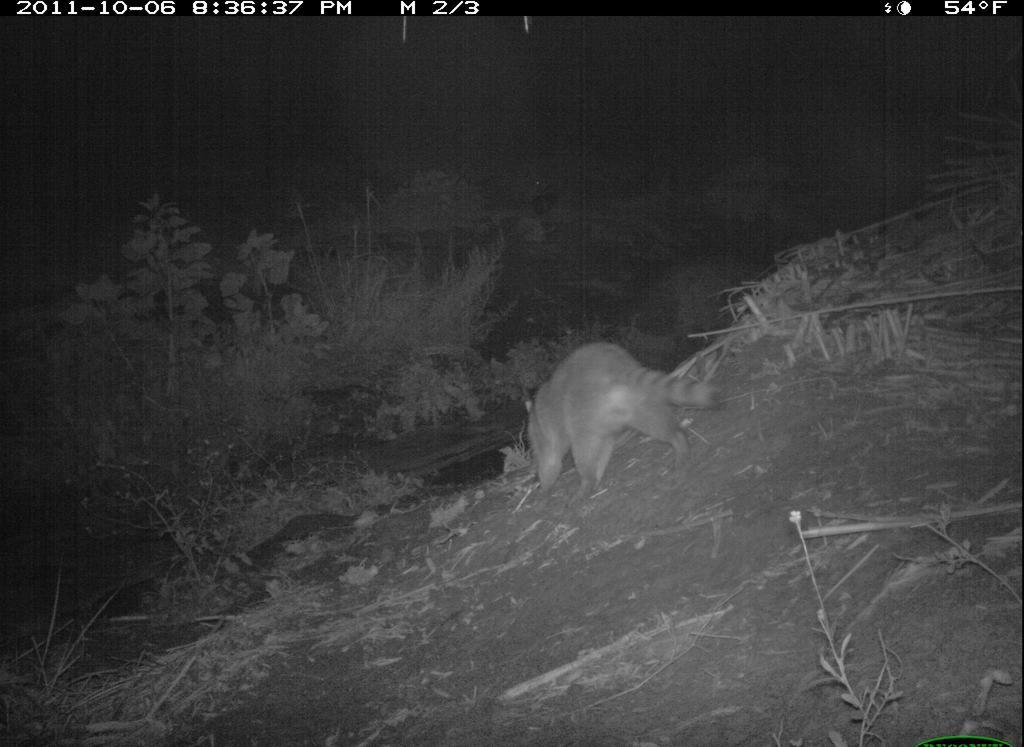raccoon: (518, 338, 731, 509)
